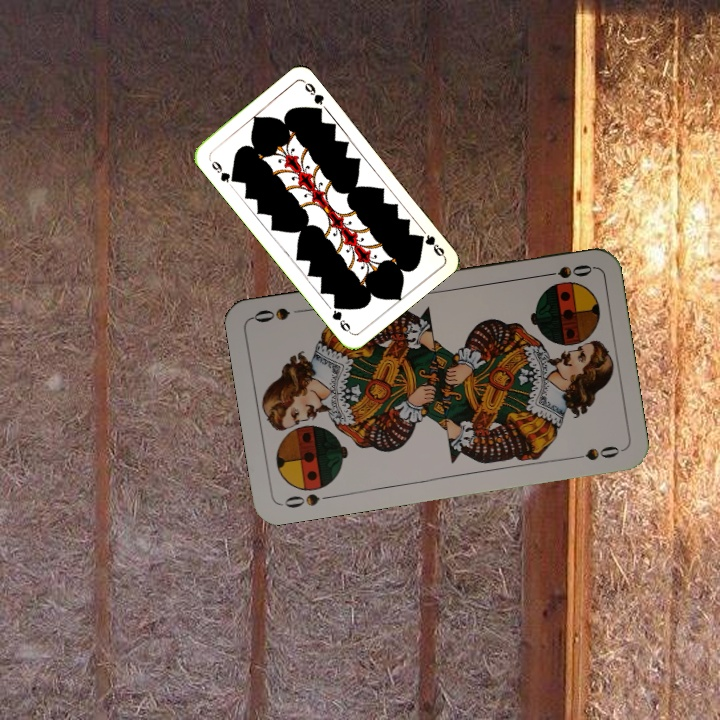G9: (414, 231, 447, 260), (207, 157, 239, 185)
SO: (536, 260, 595, 281), (278, 490, 337, 511)
